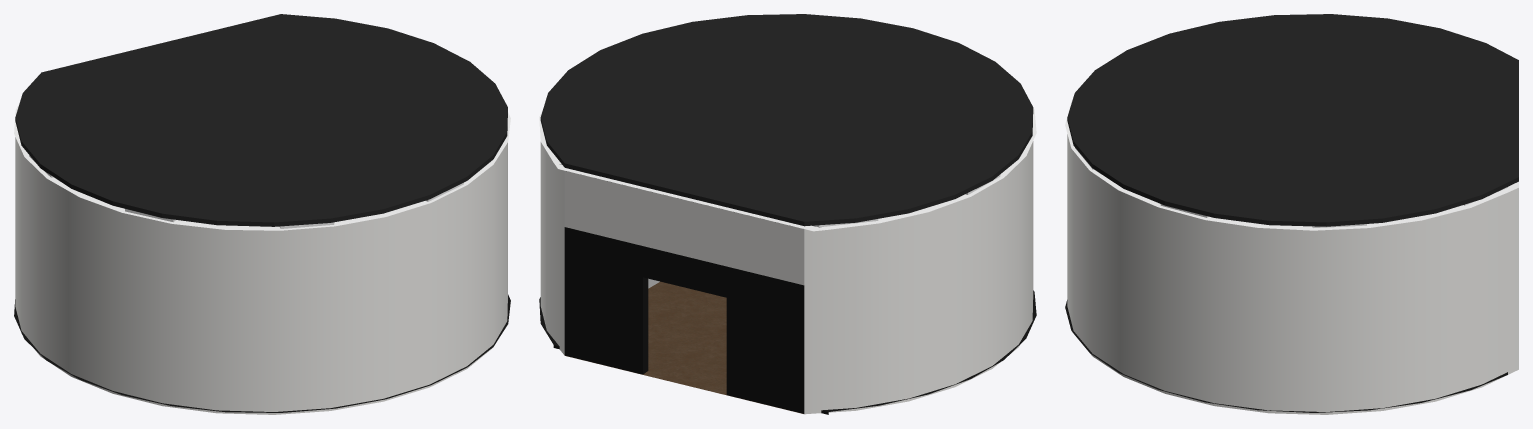
The model's file is Round_Hall.FBX.
The picture shows the model from 3 angles, left to right: view 1: azimuth 30°, elevation 25°; view 2: azimuth 150°, elevation 25°; view 3: azimuth 270°, elevation 25°; orthographic projection.
Visible parts, largest first — view 1: Round_Wall_White, Round_Ceiling, Round_Corner_Design; view 2: Round_Ceiling, Round_Wall_White, Round_Wall_Black, Round_Floor, Round_Corner_Design; view 3: Round_Wall_White, Round_Ceiling, Round_Corner_Design.
Boxes of the visible parts, x1,y1,x2,y2 form: Round_Wall_White: (15, 137, 507, 414); Round_Ceiling: (15, 14, 507, 226); Round_Corner_Design: (14, 82, 510, 412); Round_Ceiling: (540, 14, 1033, 226); Round_Wall_White: (540, 141, 1033, 414); Round_Wall_Black: (560, 164, 819, 413); Round_Floor: (565, 281, 802, 413); Round_Corner_Design: (539, 108, 1036, 414); Round_Wall_White: (1067, 134, 1518, 414); Round_Ceiling: (1067, 14, 1518, 226); Round_Corner_Design: (1065, 101, 1518, 412).
Bounding box in the file's own units: 15117 × 6443 × 13758.
